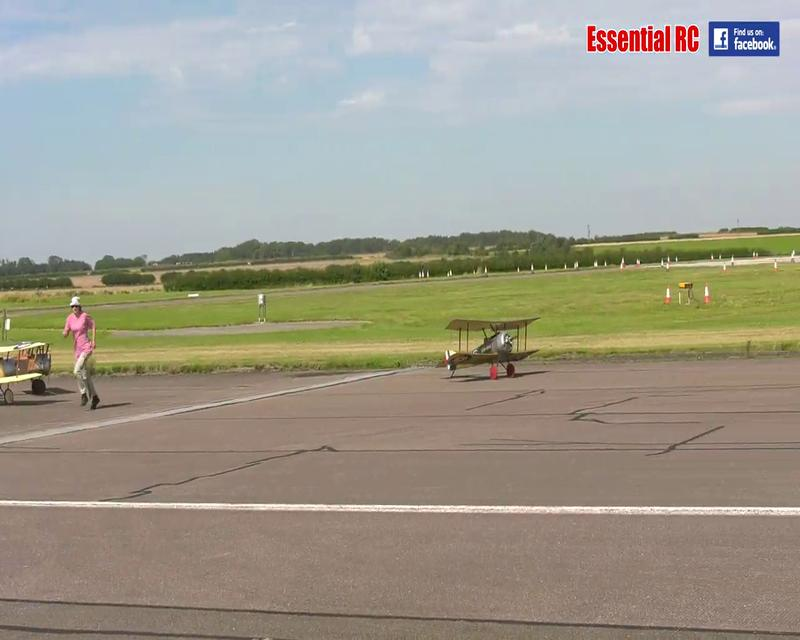UAV: (445, 319, 540, 380), (585, 23, 700, 53)
